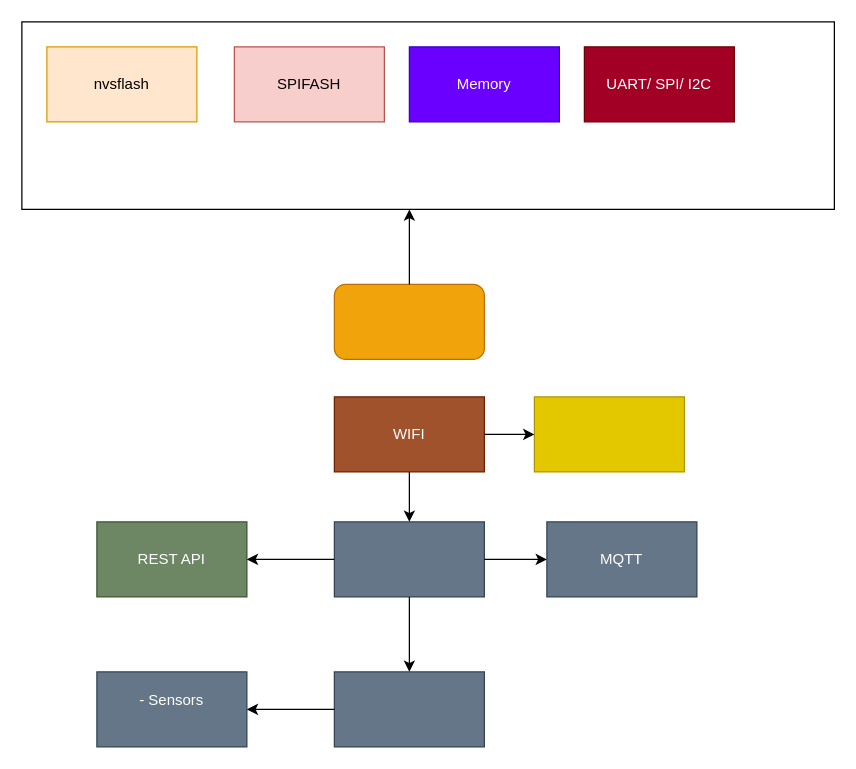
Image size: 856x769. Some labels were removed from this diagram. Each missing label, with the centre of its shape:
"ESP32" goes at point (408, 321).
"OTA Over the Air Update" goes at point (608, 434).
"VueJS" goes at point (408, 709).
"WEB Server" goes at point (408, 559).
